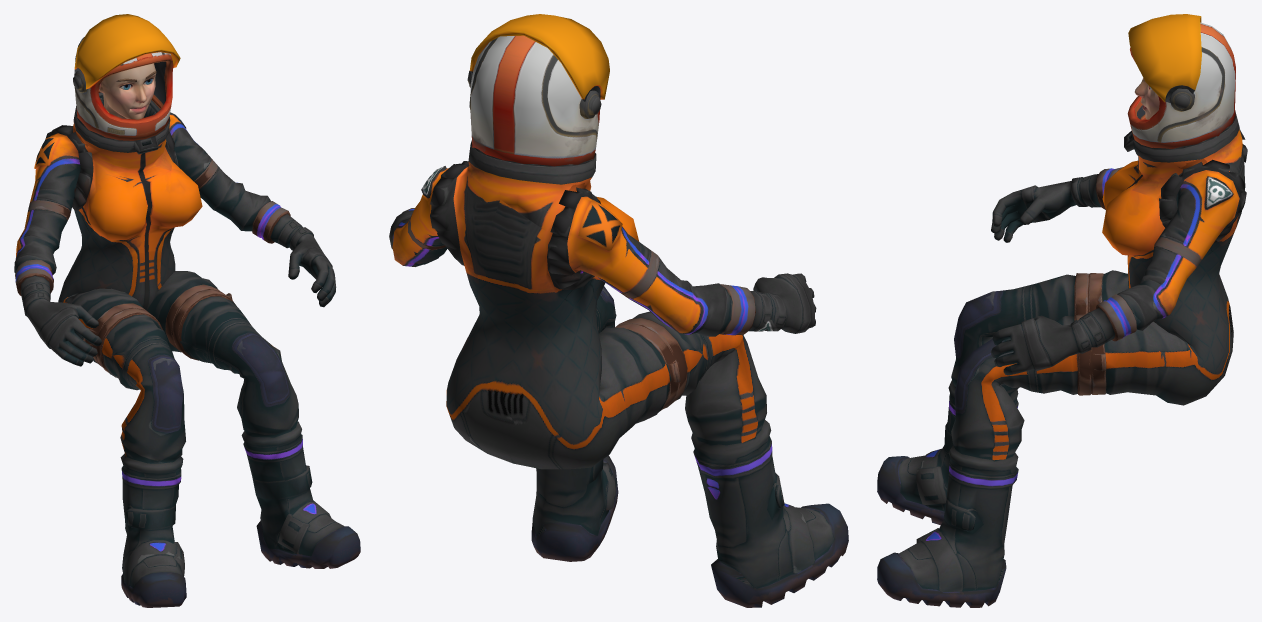
Rendered from Astronaut.fbx.
The picture shows the model from 3 angles, left to right: view 1: azimuth 30°, elevation 25°; view 2: azimuth 150°, elevation 25°; view 3: azimuth 270°, elevation 25°; orthographic projection. The views are drawn at different scales.
Visible parts, largest first — view 1: Astronaut; view 2: Astronaut; view 3: Astronaut.
Boxes of the visible parts, <box> form: Astronaut: <box>14,14,360,607</box>; Astronaut: <box>389,14,848,607</box>; Astronaut: <box>877,14,1247,607</box>.
Size of the model in its own units: 98.31 by 158 by 97.64.
